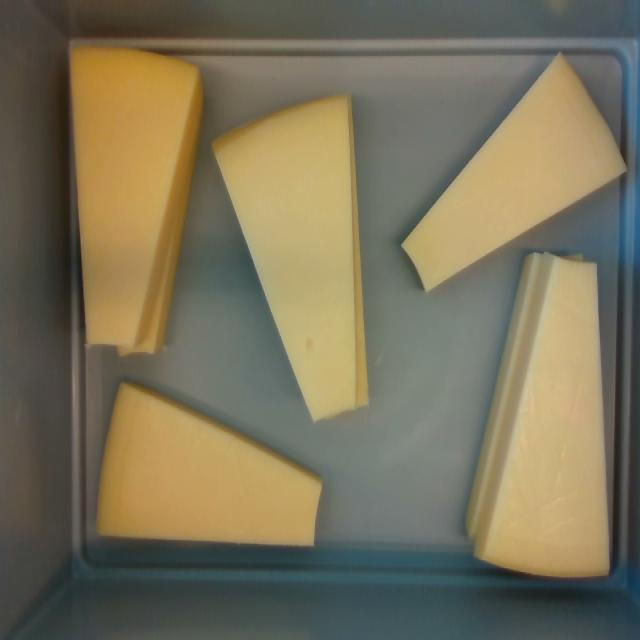Cheese: (403, 55, 624, 291), (214, 95, 357, 423), (486, 256, 607, 576), (70, 51, 198, 346), (98, 384, 321, 544)
